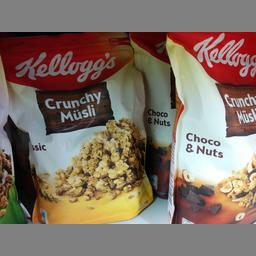cereal: (0, 31, 146, 222), (164, 31, 254, 224)
